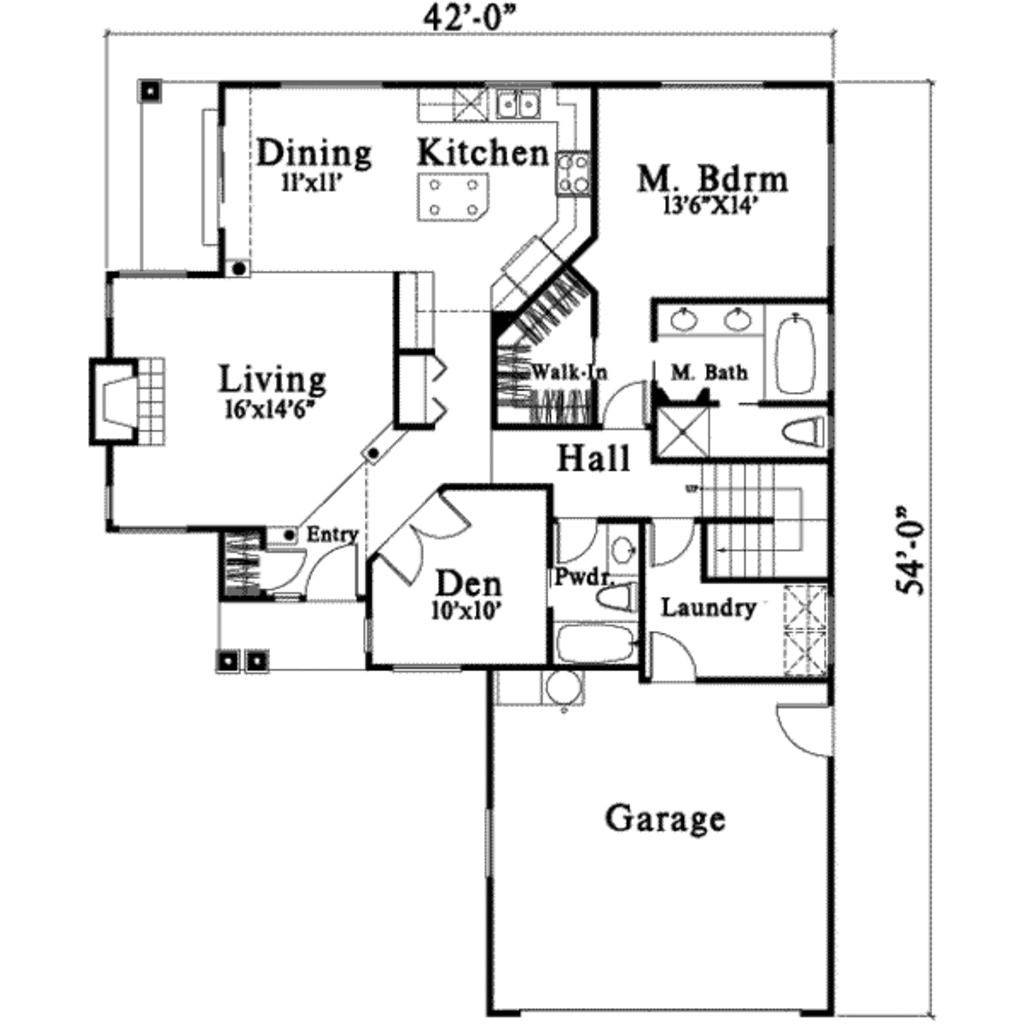door: (364, 500, 479, 585), (767, 684, 833, 760), (638, 625, 697, 685), (600, 371, 648, 432), (254, 541, 306, 597), (308, 543, 352, 598), (652, 516, 698, 566), (552, 514, 595, 565)
kitchen_bar: (406, 158, 494, 230)
large_sink: (772, 406, 829, 452), (591, 578, 645, 617)
small_sink: (648, 301, 757, 332), (606, 520, 637, 576)
stairs: (695, 465, 830, 574)
tub: (757, 306, 832, 397), (546, 616, 649, 673)
twin_sink: (484, 78, 548, 128)
window: (648, 74, 770, 98), (113, 266, 194, 287), (392, 654, 457, 678), (113, 524, 187, 539)
